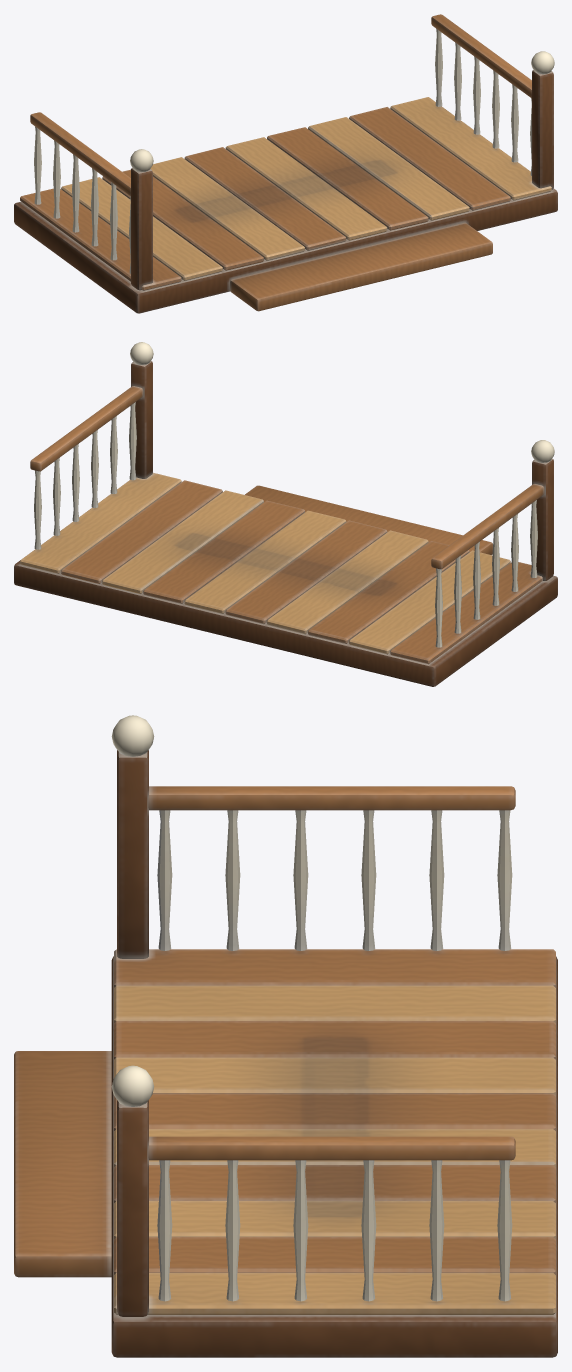
File: porch.glb
3 views of the same model, one above another, from view 1: azimuth 30°, elevation 25°; view 2: azimuth 150°, elevation 25°; view 3: azimuth 270°, elevation 25° (orthographic). The views are drawn at different scales.
Parts seen in each view (by area): view 1: SM_Porch; view 2: SM_Porch; view 3: SM_Porch.
Boxes of the visible parts, bbox=[...] form: SM_Porch: bbox=[14, 14, 557, 313]; SM_Porch: bbox=[14, 342, 557, 686]; SM_Porch: bbox=[14, 715, 557, 1357].
Size of what is drawn, in the model's own units: 4.1 by 1.47 by 2.56.
Materials: 1 (1 with a texture image).
